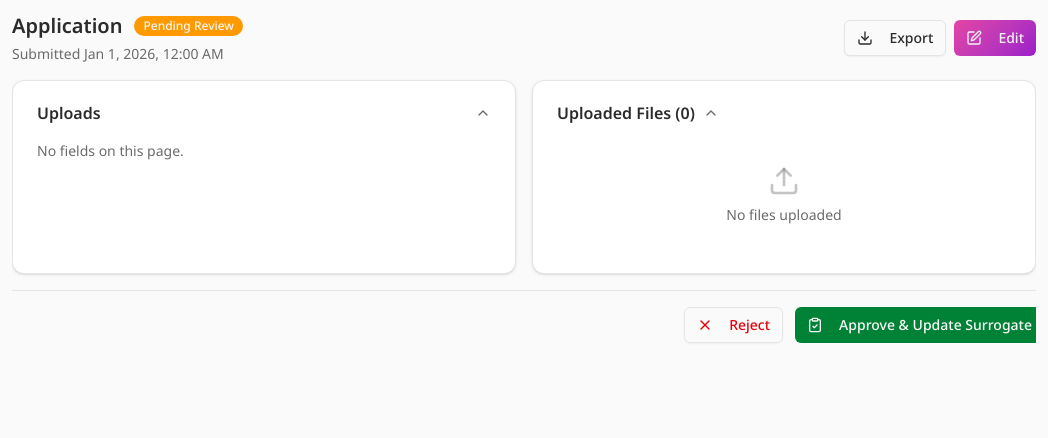
it: SurrogateApplicationTab › shows a persistent field-selection hint before file upload when multiple file fields exist
Click the button "Edit". click: [995, 38]
box: [954,20,1036,56]
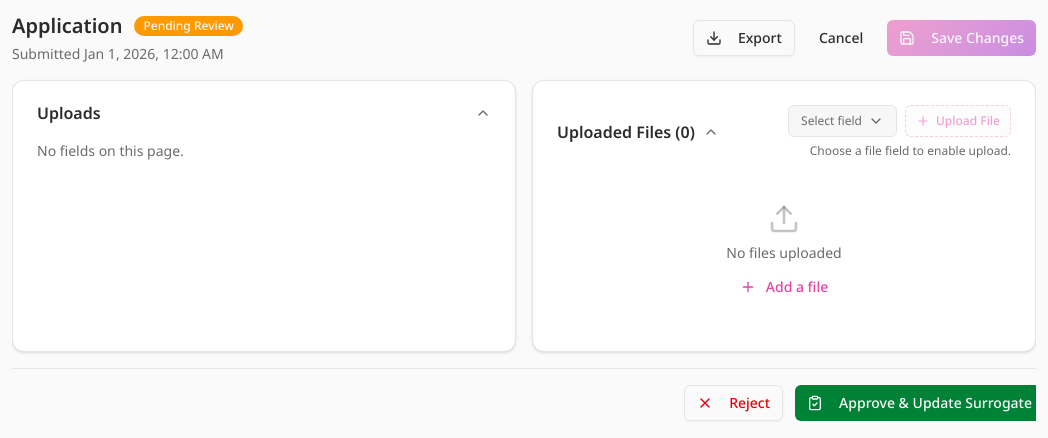
Check: the text "Choose a file field to enable upload." is shown, box [810,143,1011,159]
